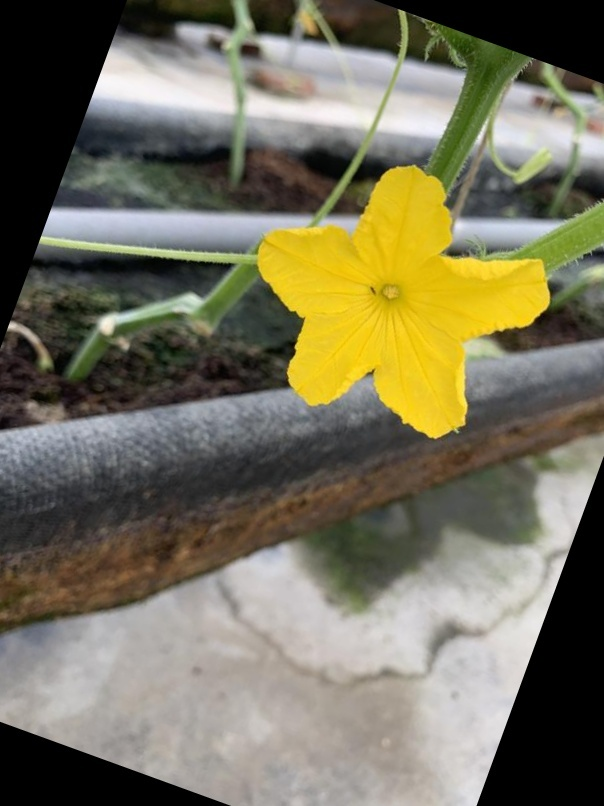mature: (241, 163, 560, 442)
